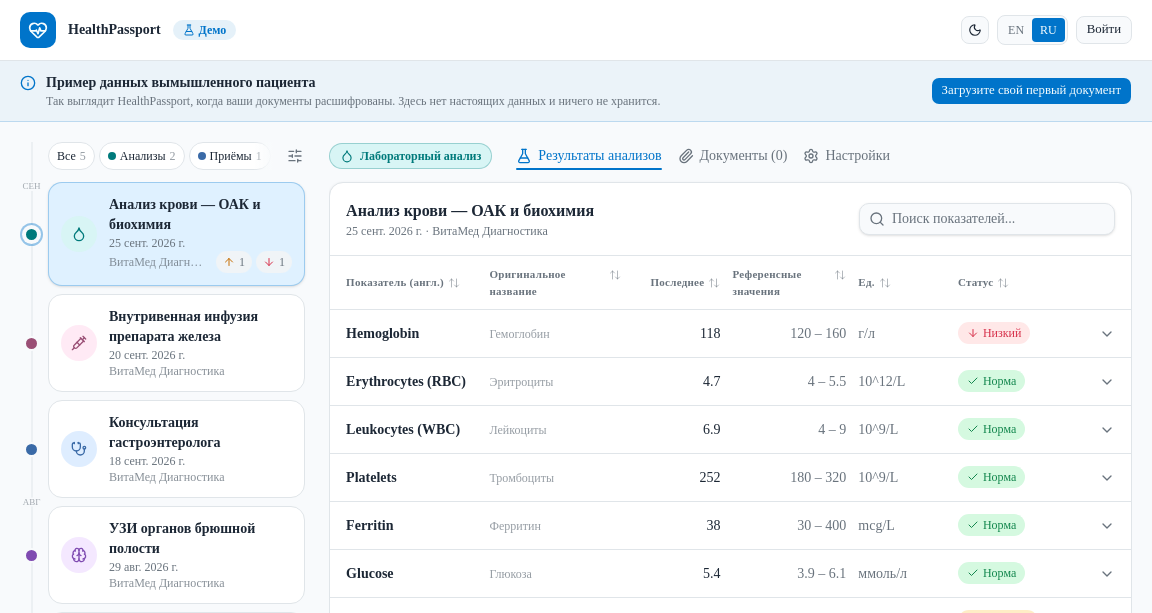
Test case: DemoTimelineView › renders the fictional-patient banner and visit in the ru locale
The image size is (1152, 613).
Expected: the text "Пример данных вымышленного пациента" is shown, x1=46 y1=75 x2=316 y2=90
Expected: the link "Загрузите свой первый документ" is shown, x1=931 y1=77 x2=1132 y2=105
// Selecting the visit renders its fictional verdict (EN translation side).
Click the button "Консультация гастроэнтеролога". click: x=177, y=449
box: x1=48 y1=400 x2=305 y2=498
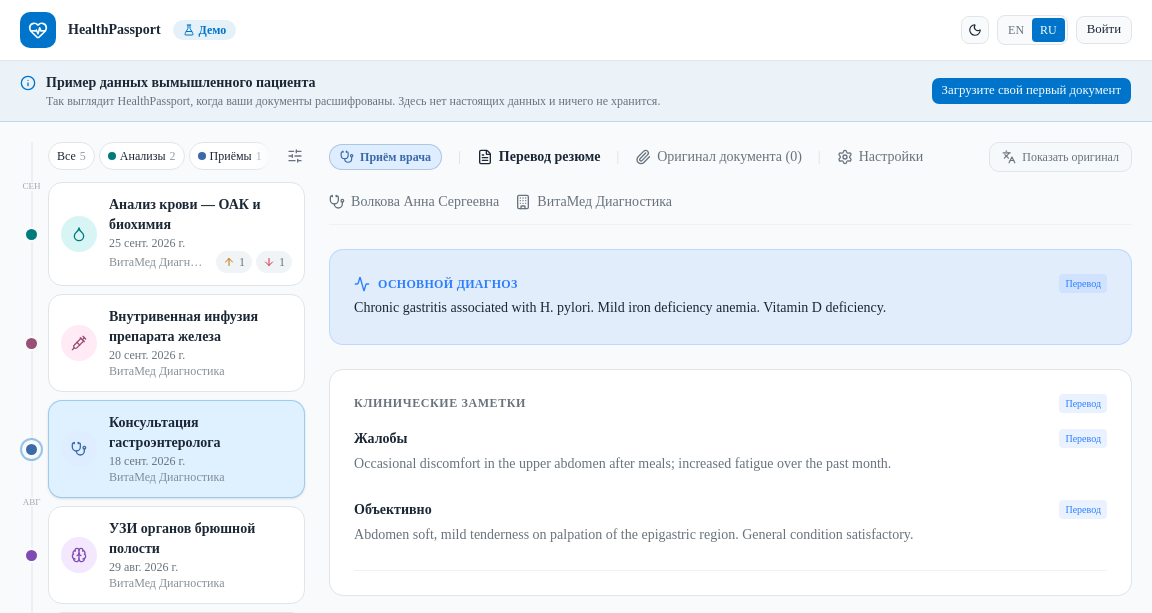
Expected: the text "Chronic gastritis associated with H. pylori" is shown, x1=354 y1=300 x2=886 y2=315
